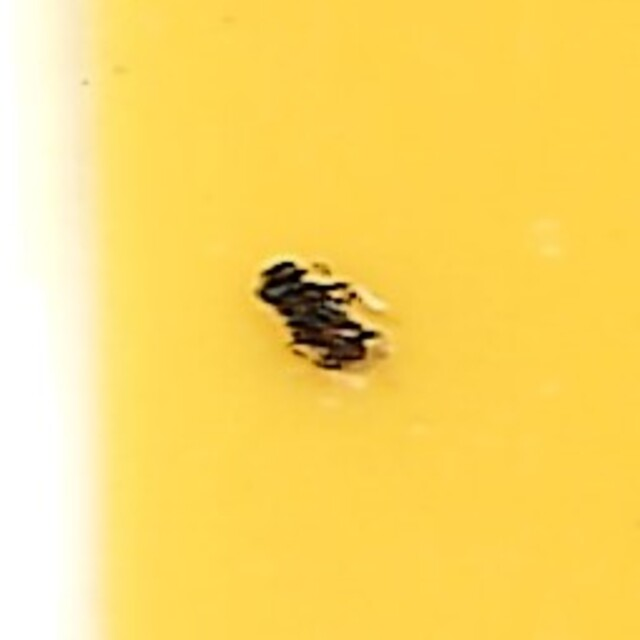Hymenoptera: (251, 257, 389, 383)
